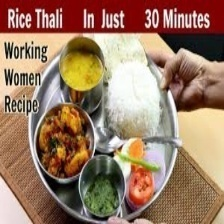sabzi: (35, 107, 93, 178)
